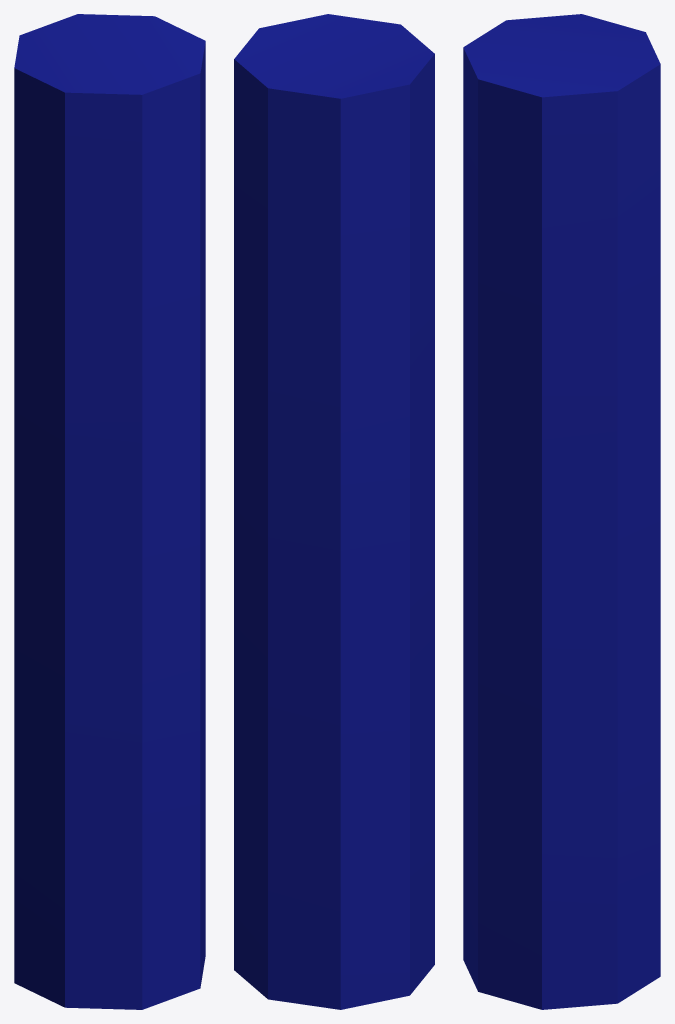
The model's file is harpoon_blue_2.fbx.
3 renders of one model, left to right at view 1: azimuth 30°, elevation 25°; view 2: azimuth 150°, elevation 25°; view 3: azimuth 270°, elevation 25°, orthographic.
Parts seen in each view (by area): view 1: Cylinder.005; view 2: Cylinder.005; view 3: Cylinder.005.
Part boxes in pixels (left/top/right/bottom): Cylinder.005: left=14, top=14, right=205, bottom=1009; Cylinder.005: left=234, top=14, right=434, bottom=1009; Cylinder.005: left=463, top=14, right=660, bottom=1009.
Bounding box in the file's own units: 11.76 × 60 × 11.76.
